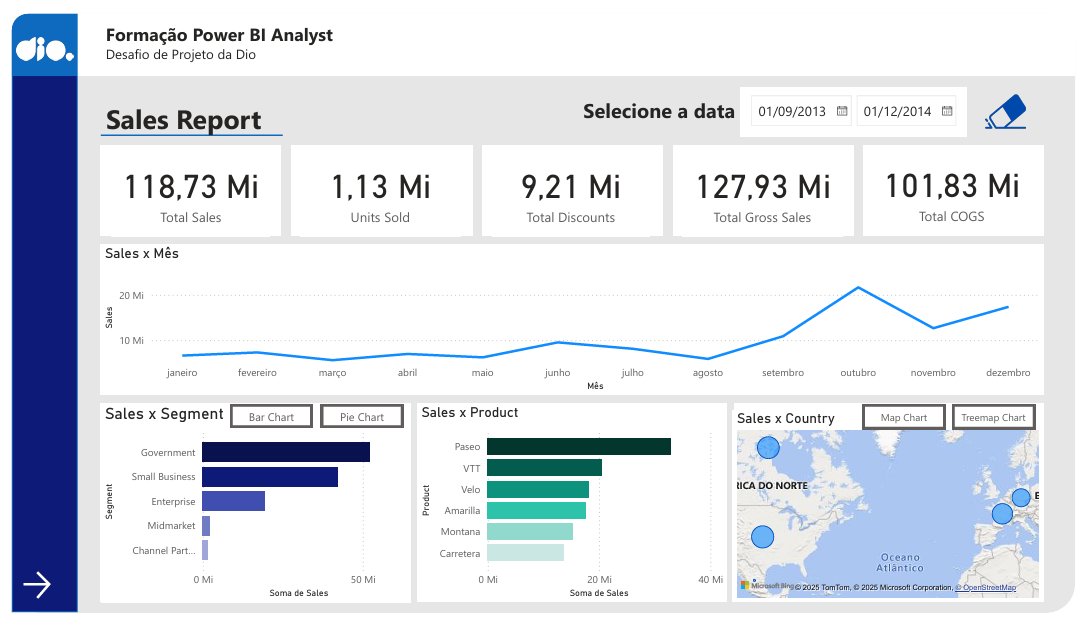

The page's visual inventory and layout, read from the dashboard file:
{"tool":"powerbi","page":{"name":"Página 1","canvas":[1280,720],"ordinal":0},"visuals":[{"type":"shape","box":[0,0,1280.2,721.4],"z":0},{"type":"shape","box":[106.6,133.9,218.9,24.5],"z":0,"group":"g5"},{"type":"shape","box":[106.6,158.4,217,109.4],"z":0,"group":"g1"},{"type":"pieChart","title":"Sales x Segment","fields":{"Category":["financials.Segment"],"Y":["Sum(financials. Sales)"]},"box":[107.7,469.9,372.6,239.3],"z":0,"group":"g4"},{"type":"shape","box":[0,0,79.2,720],"z":1000},{"type":"textbox","box":[682.6,93.6,194.4,49],"z":1000,"group":"g2"},{"type":"textbox","box":[108,97.9,217.4,54.7],"z":1000,"group":"g5"},{"type":"shape","box":[335.6,158.4,218.7,109.4],"z":1000,"group":"g1"},{"type":"clusteredBarChart","title":"Sales x Segment","fields":{"Y":["Sum(financials. Sales)"],"Category":["financials.Segment"]},"box":[106.6,469.4,374.4,239],"z":1000,"group":"g4"},{"type":"map","title":"Sales x Country","fields":{"Category":["financials.Country"],"Size":["Sum(financials. Sales)"]},"box":[868.3,477.2,372.9,231.3],"z":1000,"group":"g3"},{"type":"actionButton","title":"Botão - Treemap","box":[1132.8,470.4,99.6,30.3],"z":1500,"group":"g3"},{"type":"shape","box":[0,0,79.2,74.9],"z":2000},{"type":"slicer","fields":{"Values":["financials.Date"]},"box":[877,87.8,272.2,59],"z":2000,"group":"g2"},{"type":"shape","box":[566.3,158.4,217,109.4],"z":2000,"group":"g1"},{"type":"actionButton","title":"Botão - Pie","box":[371.2,470.1,99,28],"z":2000,"group":"g4"},{"type":"actionButton","title":"Botão - Map","box":[1024.6,470.4,99.6,30.3],"z":2000,"group":"g3"},{"type":"image","title":"Logo_Dio","box":[0,8.6,79.2,66.2],"z":3000},{"type":"shape","box":[795.3,158.4,217,109.4],"z":3000,"group":"g1"},{"type":"actionButton","title":"Botão - Bar","box":[262.3,470.1,99,28],"z":3000,"group":"g4"},{"type":"image","title":"Clean","box":[1149.2,87.8,92.2,59],"z":3500,"group":"g2"},{"type":"shape","box":[79.2,0,1201,74.9],"z":4000},{"type":"actionButton","box":[1163.6,87.8,69.1,59],"z":4000,"group":"g2"},{"type":"shape","box":[1024.3,158.4,217,109.4],"z":4000,"group":"g1"},{"type":"textbox","box":[108,4.3,362.9,66.2],"z":5000},{"type":"card","fields":{"Values":["Sum(financials.COGS)"]},"box":[1034,158.4,194.4,109.4],"z":5000,"group":"g1"},{"type":"group","id":"g1","title":"Cartões","box":[106.6,158.4,1134.7,109.9],"z":6000},{"type":"card","fields":{"Values":["Sum(financials.Gross Sales)"]},"box":[806.7,158.9,193.1,109.4],"z":6000,"group":"g1"},{"type":"card","fields":{"Values":["Sum(financials.Discounts)"]},"box":[577.7,158.9,189.7,109.4],"z":7000,"group":"g1"},{"type":"shape","box":[108,277.9,1134.7,181.4],"z":7000},{"type":"card","fields":{"Values":["Sum(financials.Units Sold)"]},"box":[347,158.9,193.1,109.4],"z":8000,"group":"g1"},{"type":"shape","box":[108,469.4,373,239],"z":8000},{"type":"card","fields":{"Values":["Sum(financials. Sales)"]},"box":[119.7,158.9,191.4,109.4],"z":9000,"group":"g1"},{"type":"shape","box":[488.2,469.4,373,239],"z":9000},{"type":"shape","box":[869.8,469.4,373,239],"z":10000},{"type":"lineChart","title":"Sales x Mês","fields":{"Category":["financials.Date.Variation.Hierarquia de datas.Mês"],"Y":["Sum(financials. Sales)"]},"box":[106.6,277.9,1134.7,181.4],"z":11000},{"type":"clusteredBarChart","title":"Sales x Product","fields":{"Y":["Sum(financials. Sales)"],"Category":["financials.Product"]},"box":[488.2,469.4,373,239],"z":12000},{"type":"group","id":"g2","title":"Filtro por data","box":[682.6,87.8,558.7,59],"z":13000},{"type":"group","id":"g3","title":"Sales x Country","box":[864.3,470.4,378.3,238],"z":14000},{"type":"group","id":"g4","title":"Sales x Segment","box":[106.6,469.4,374.4,239.8],"z":15000},{"type":"group","id":"g5","title":"Title Report","box":[106.6,97.9,218.9,60.5],"z":16000},{"type":"actionButton","title":"Botão - Seta","box":[8.2,666.4,56.1,42.9],"z":17000}]}

Visuals, with their boxes on the page's 1280x720 design canvas (x1, y1, x2, y2). These are canvas units, not pixel positions in the 1086x630 screenshot, which may show the page scaled, cropped or inside an application window:
shape: <region>0, 0, 1280, 721</region>
shape: <region>107, 134, 326, 158</region>
shape: <region>107, 158, 324, 268</region>
"Sales x Segment" pieChart: <region>108, 470, 480, 709</region>
shape: <region>0, 0, 79, 720</region>
textbox: <region>683, 94, 877, 143</region>
textbox: <region>108, 98, 325, 153</region>
shape: <region>336, 158, 554, 268</region>
"Sales x Segment" clusteredBarChart: <region>107, 469, 481, 708</region>
"Sales x Country" map: <region>868, 477, 1241, 708</region>
"Botão - Treemap" actionButton: <region>1133, 470, 1232, 501</region>
shape: <region>0, 0, 79, 75</region>
slicer - financials.Date: <region>877, 88, 1149, 147</region>
shape: <region>566, 158, 783, 268</region>
"Botão - Pie" actionButton: <region>371, 470, 470, 498</region>
"Botão - Map" actionButton: <region>1025, 470, 1124, 501</region>
"Logo_Dio" image: <region>0, 9, 79, 75</region>
shape: <region>795, 158, 1012, 268</region>
"Botão - Bar" actionButton: <region>262, 470, 361, 498</region>
"Clean" image: <region>1149, 88, 1241, 147</region>
shape: <region>79, 0, 1280, 75</region>
actionButton: <region>1164, 88, 1233, 147</region>
shape: <region>1024, 158, 1241, 268</region>
textbox: <region>108, 4, 471, 70</region>
card - Sum(financials.COGS): <region>1034, 158, 1228, 268</region>
"Cartões" group: <region>107, 158, 1241, 268</region>
card - Sum(financials.Gross Sales): <region>807, 159, 1000, 268</region>
card - Sum(financials.Discounts): <region>578, 159, 767, 268</region>
shape: <region>108, 278, 1243, 459</region>
card - Sum(financials.Units Sold): <region>347, 159, 540, 268</region>
shape: <region>108, 469, 481, 708</region>
card - Sum(financials. Sales): <region>120, 159, 311, 268</region>
shape: <region>488, 469, 861, 708</region>
shape: <region>870, 469, 1243, 708</region>
"Sales x Mês" lineChart: <region>107, 278, 1241, 459</region>
"Sales x Product" clusteredBarChart: <region>488, 469, 861, 708</region>
"Filtro por data" group: <region>683, 88, 1241, 147</region>
"Sales x Country" group: <region>864, 470, 1243, 708</region>
"Sales x Segment" group: <region>107, 469, 481, 709</region>
"Title Report" group: <region>107, 98, 326, 158</region>
"Botão - Seta" actionButton: <region>8, 666, 64, 709</region>
